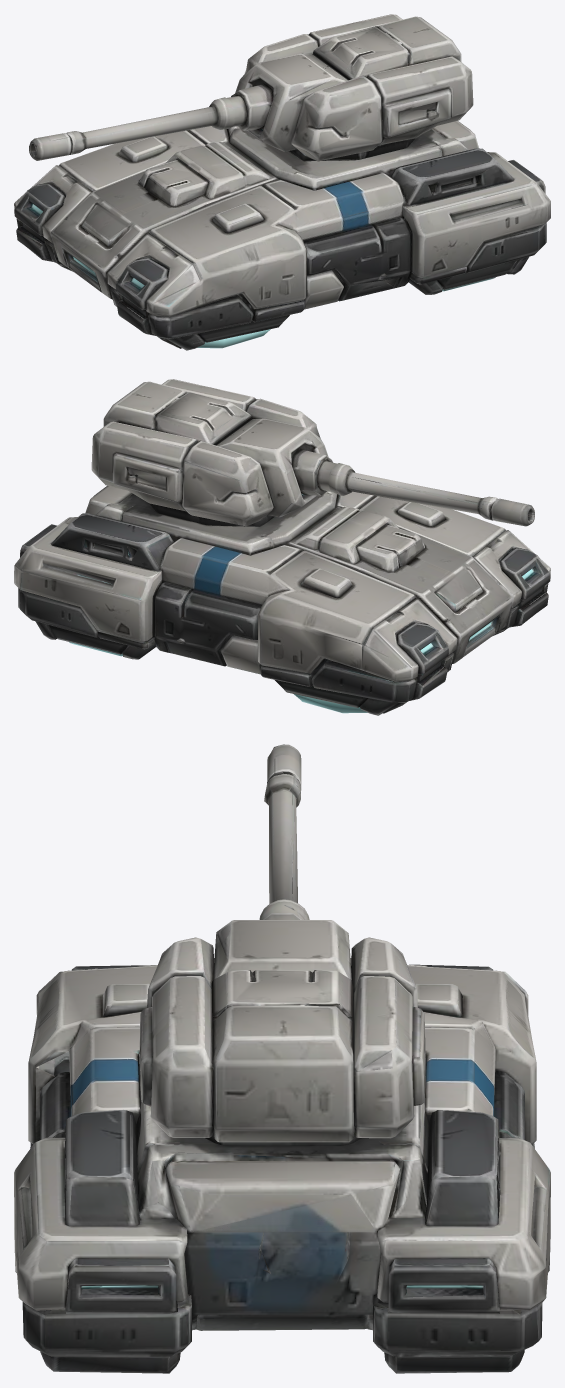
The model's file is tank.glb.
3 renders of one model, top to bottom at view 1: azimuth 30°, elevation 25°; view 2: azimuth 150°, elevation 25°; view 3: azimuth 270°, elevation 25°, orthographic. The views are drawn at different scales.
Size of the model in its own units: 0.9536 by 0.4214 by 0.604.
1 material, 1 textured.
